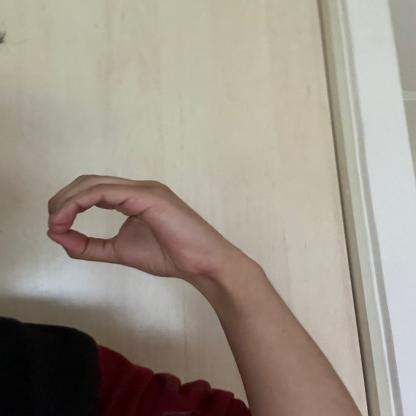O: (38, 170, 220, 284)
